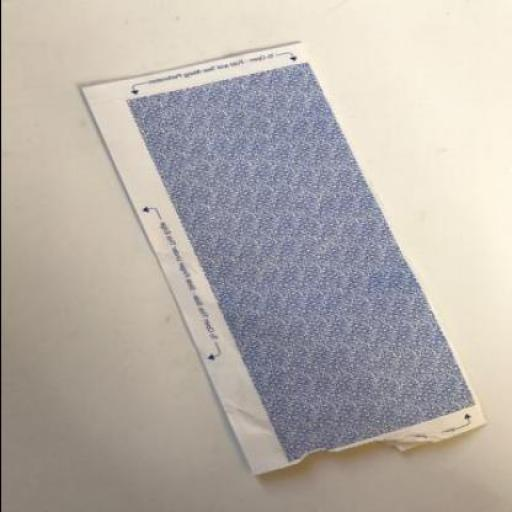paper: (78, 40, 484, 474)
